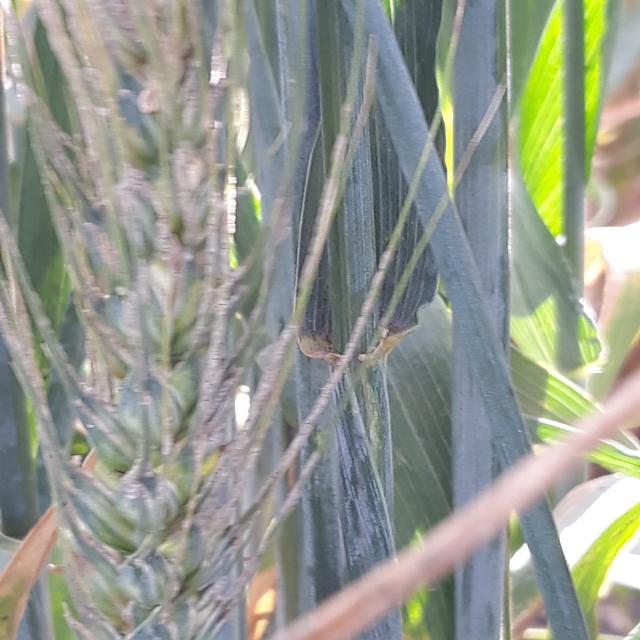powder_mildew: (4, 0, 271, 640), (248, 339, 413, 639)
